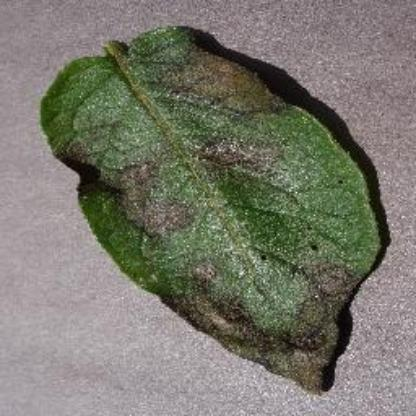Late-Blight: (34, 20, 394, 402)
